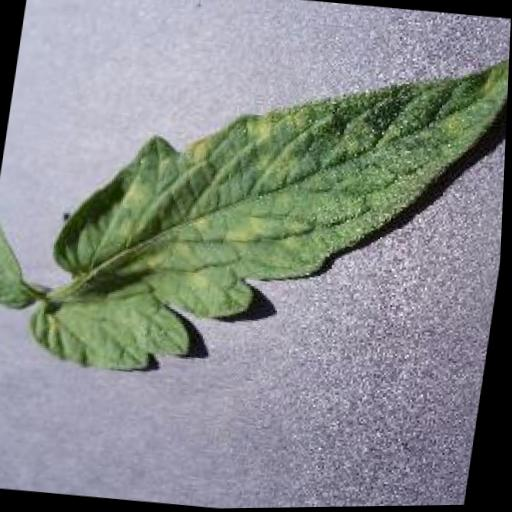Leaf Mold: (26, 5, 512, 410)
